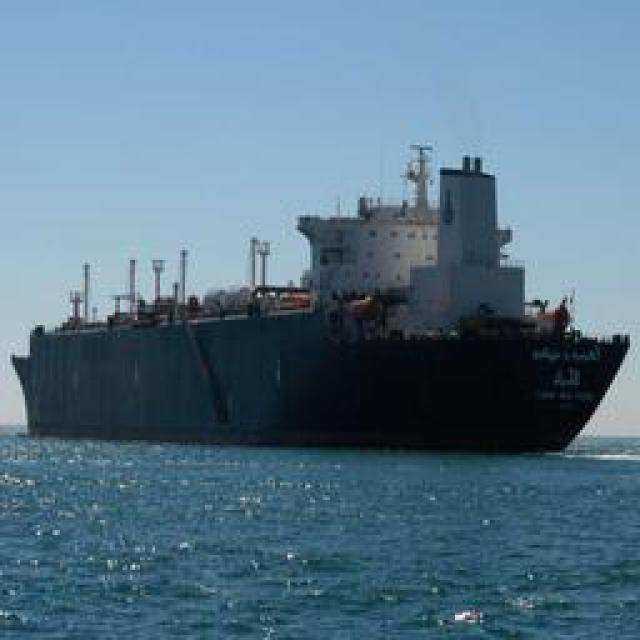Ship: (52, 130, 625, 448)
